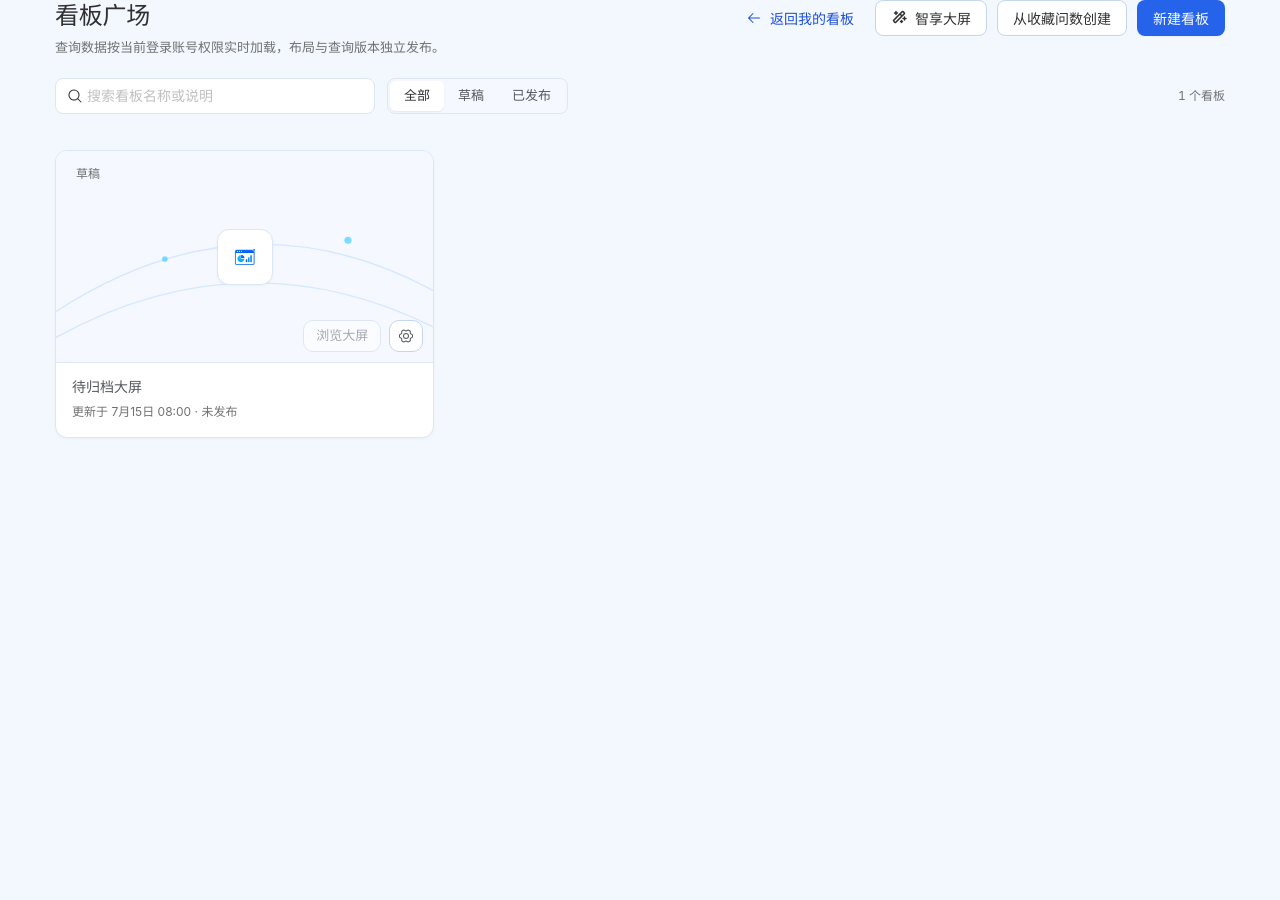
Test case: DashboardSquarePage › archives a dashboard after confirmation
This screenshot has width=1280, height=900.
Click the button named "待归档大屏 设置" at (406, 336), box [389,320,423,352]
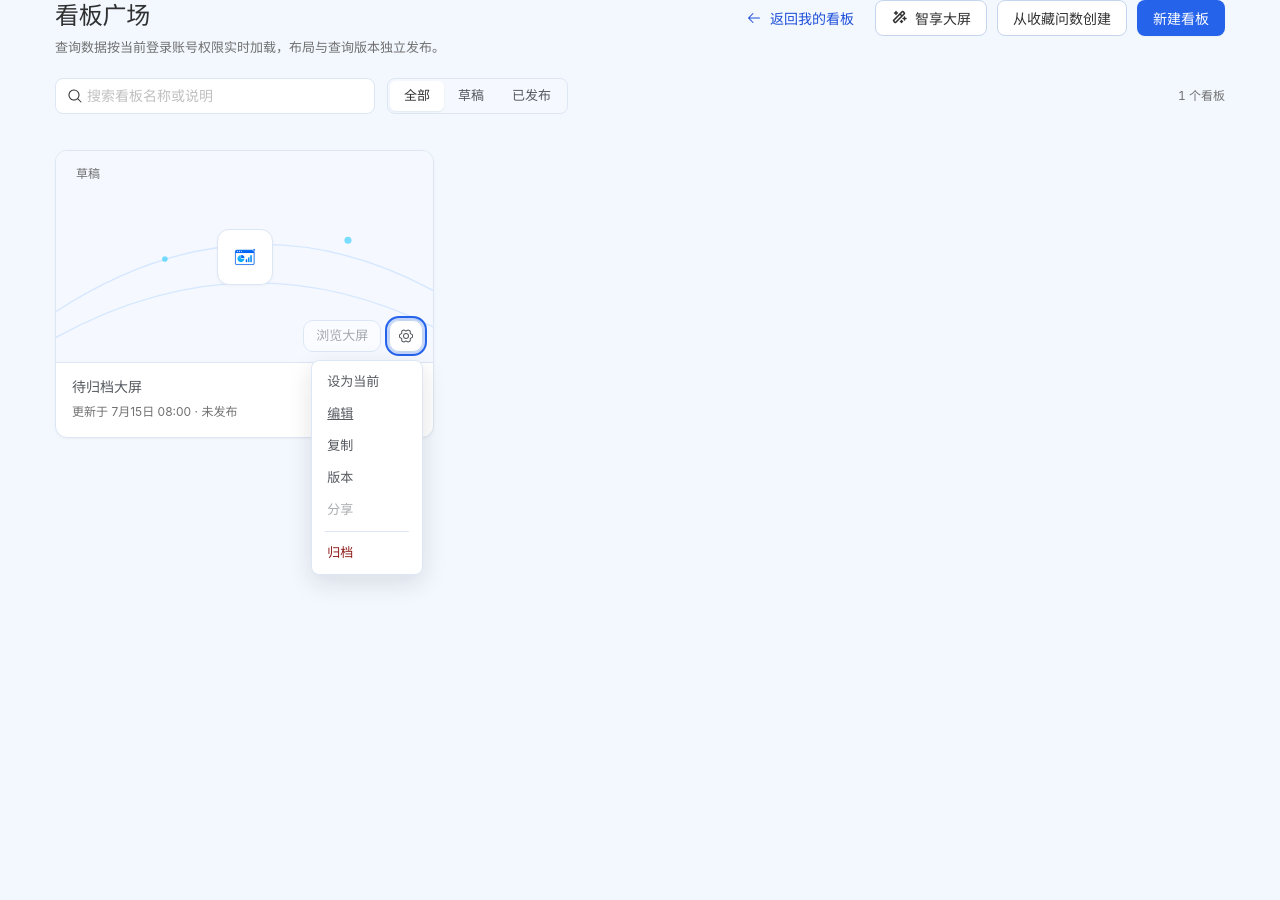
Click the menu item "归档" at (367, 553), box [317,537,417,569]
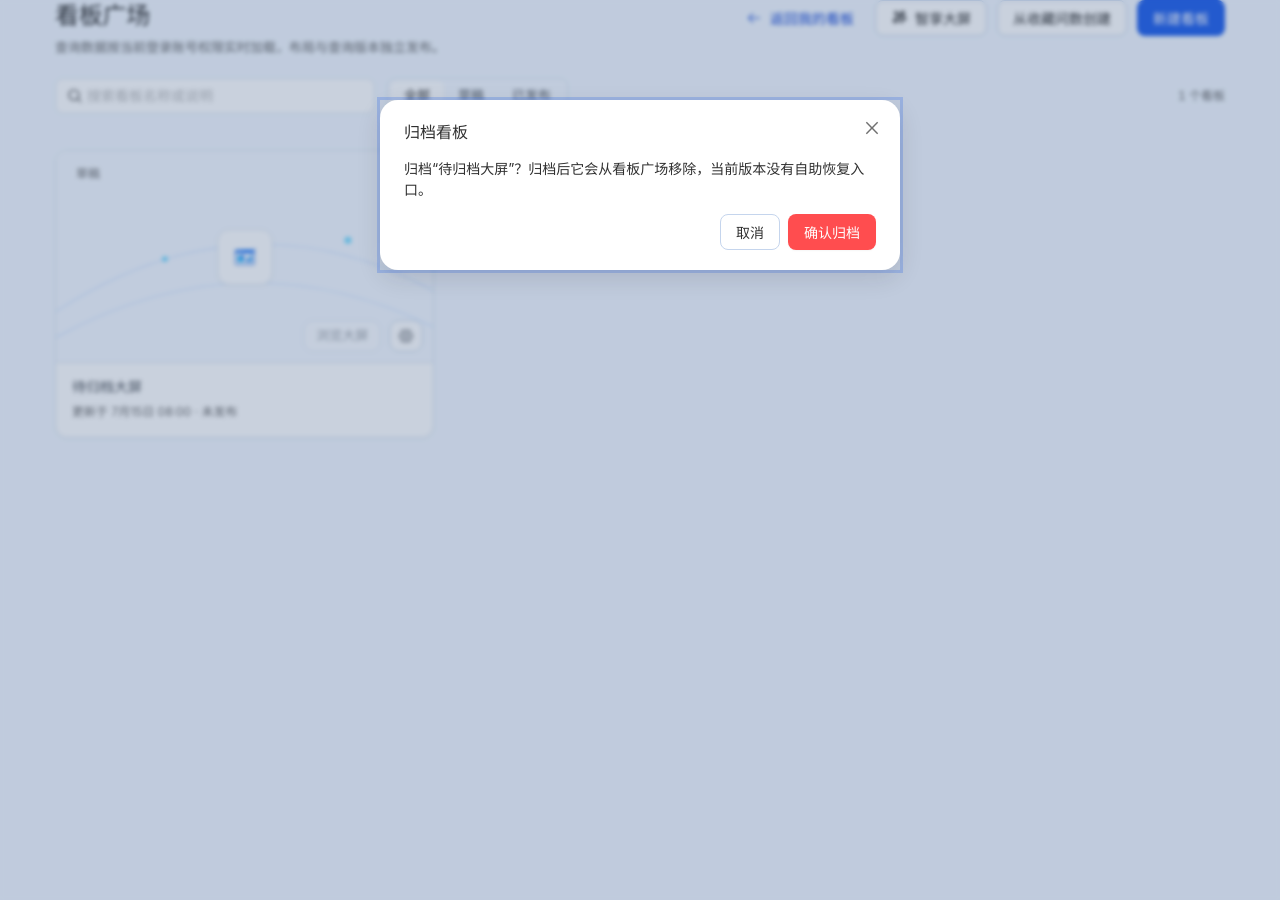
Now the dialog "归档看板" shows "归档“待归档大屏”？归档后它会从看板广场移除，当前版本没有自助恢复入口。", box [380,100,900,294]
Click the button "确认归档" at (832, 232), box [788,214,876,250]
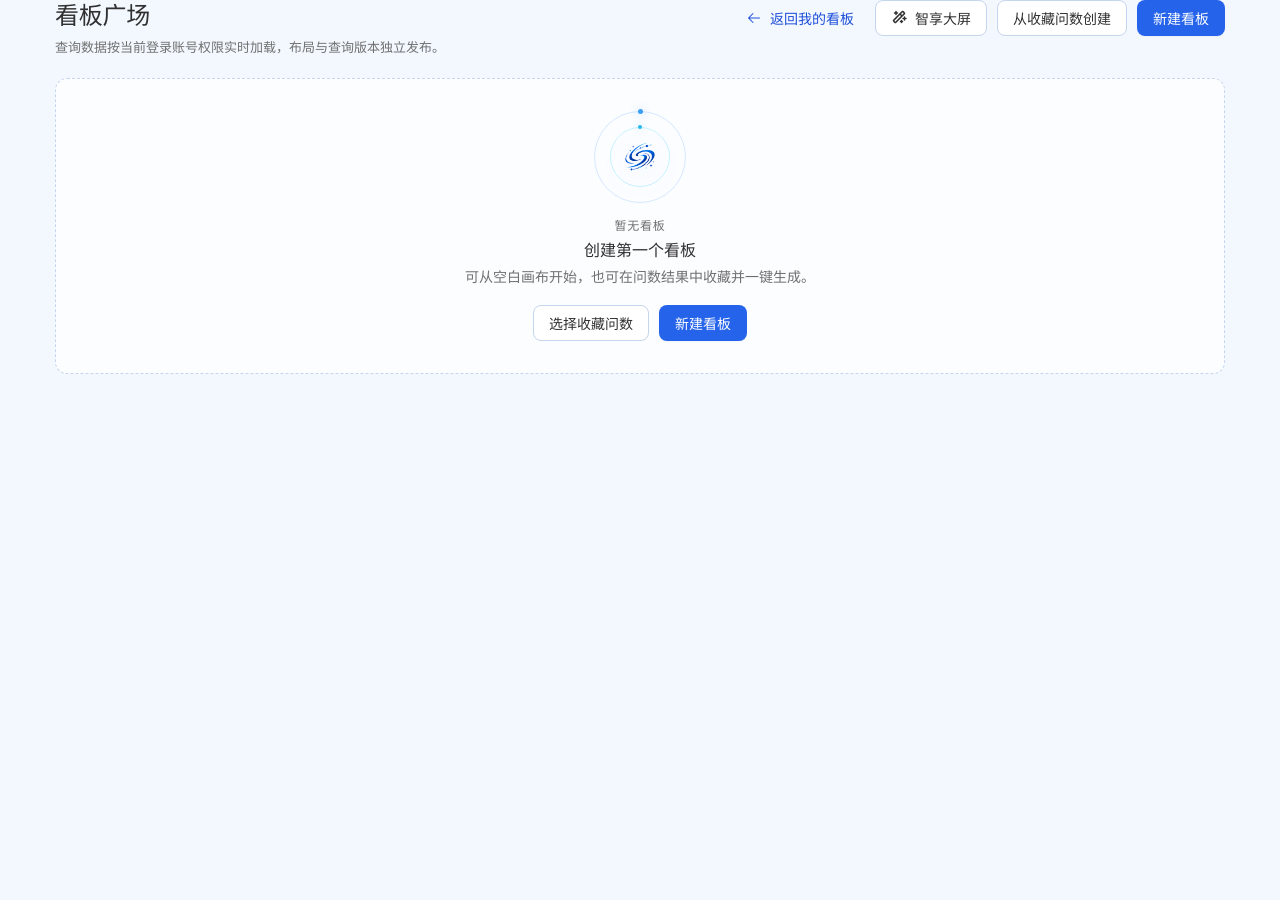
Now the link "待归档大屏" is gone
